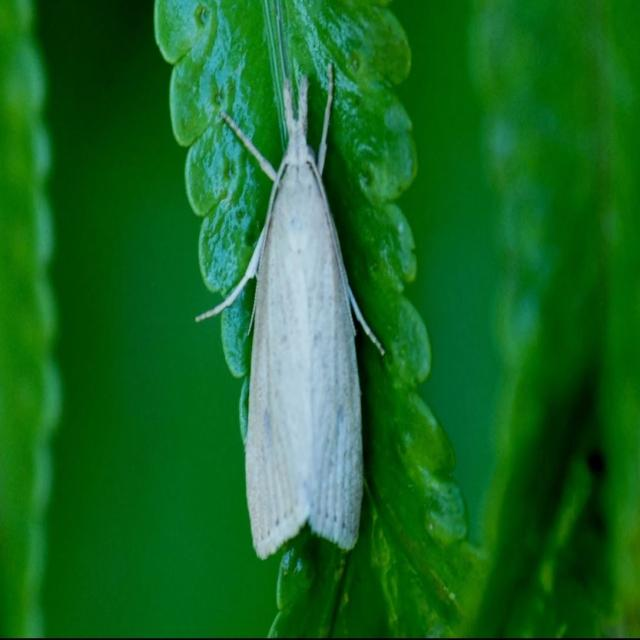rice stem borer -penggerek batang padi-: (192, 59, 388, 561)
